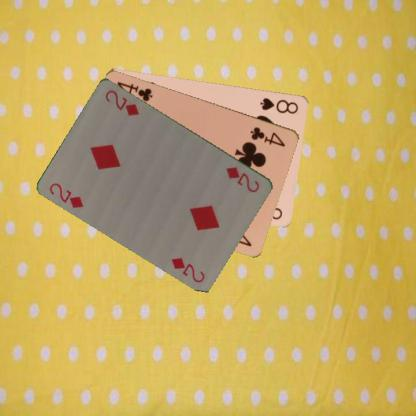2d: (47, 180, 85, 210), (224, 163, 261, 193)
4c: (247, 124, 287, 148)
8s: (258, 95, 300, 115)
